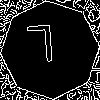L: (25, 25, 57, 72)
